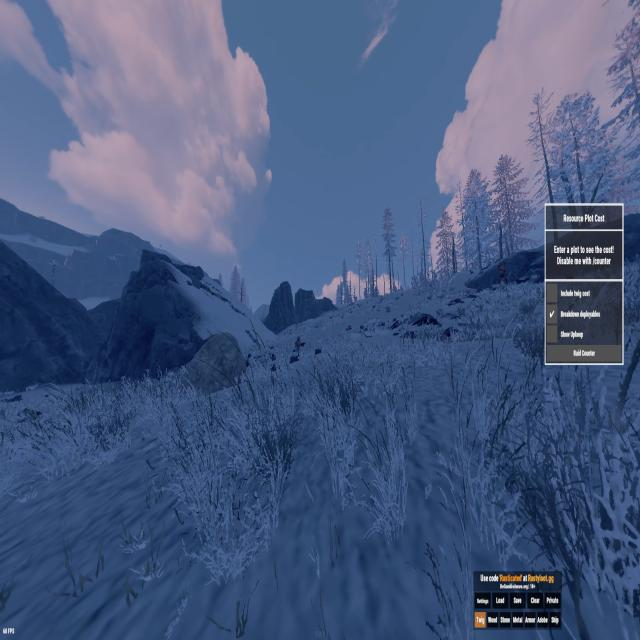Player: (498, 262, 508, 283), (296, 336, 302, 356)
